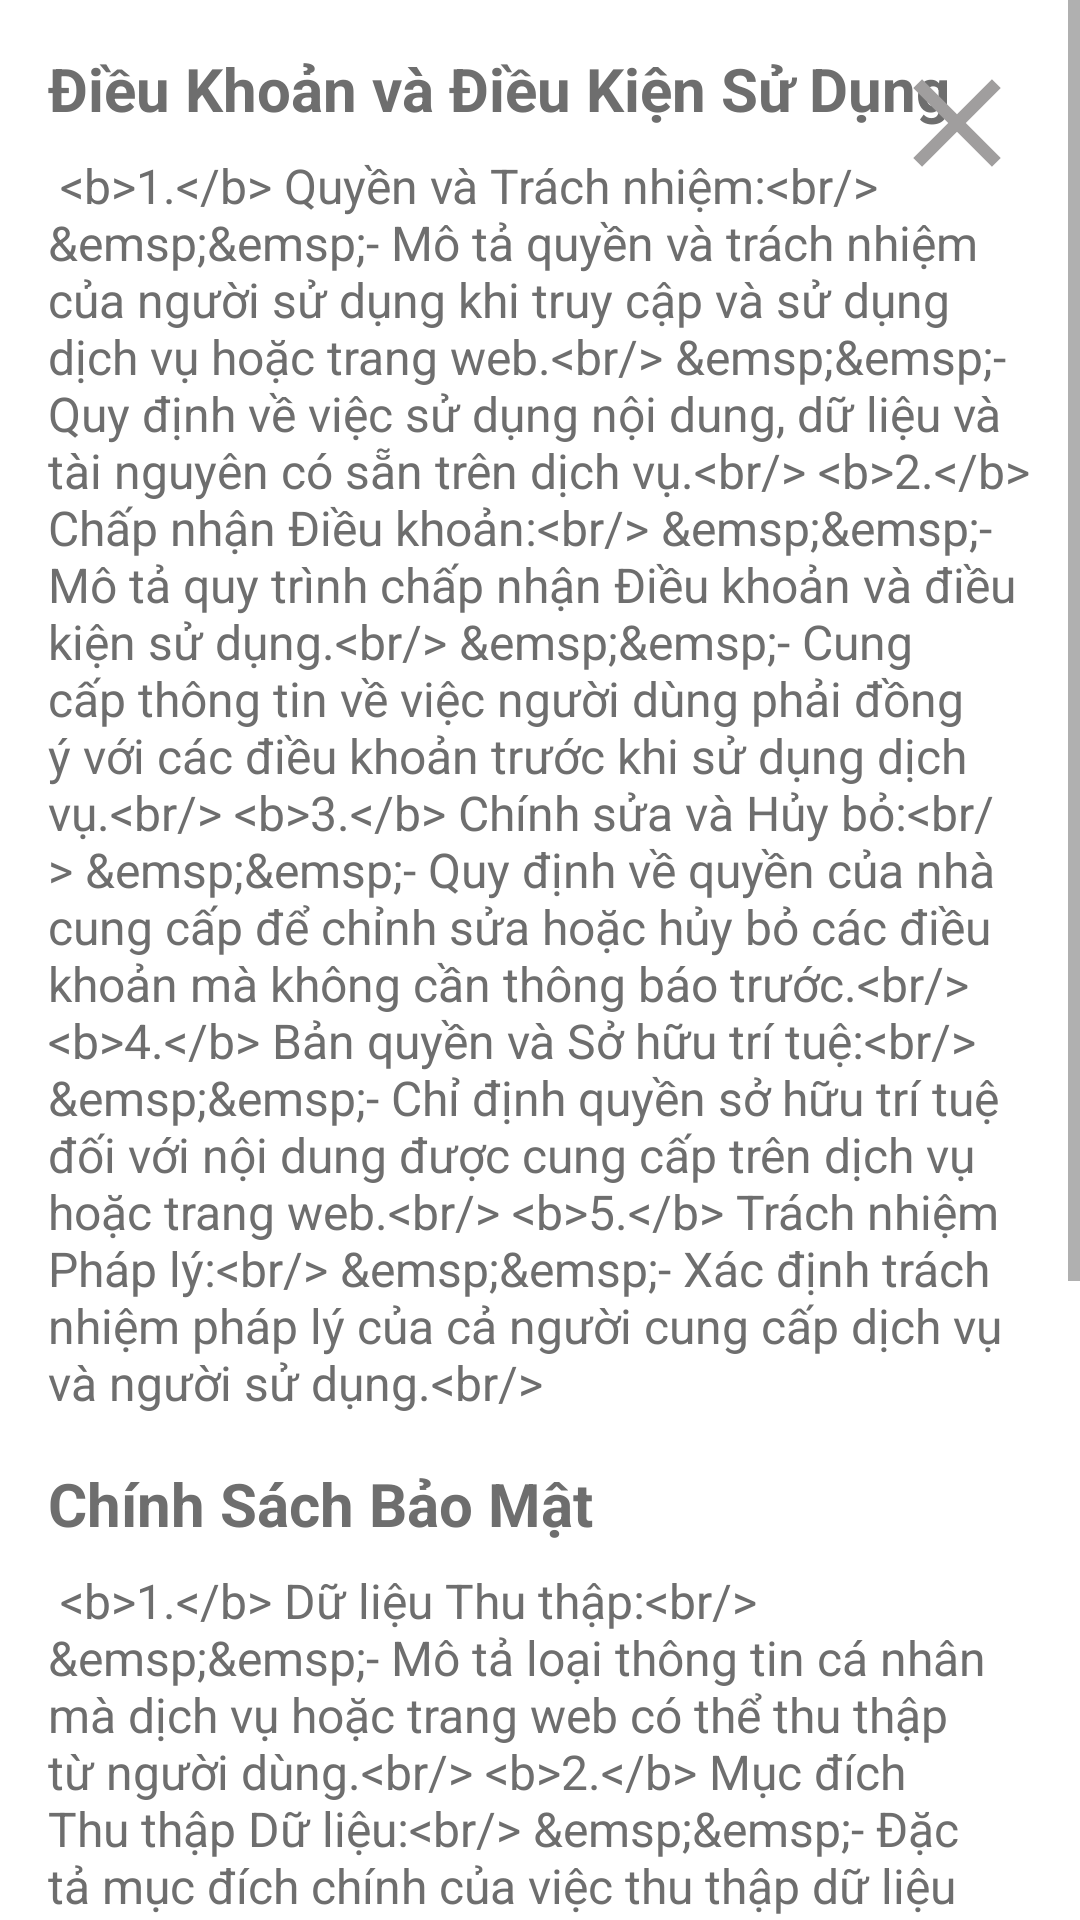

Point at icon controls on the screen. Image size 1080x1920, points as (x=x, y=y).
close: (x=943, y=123)
